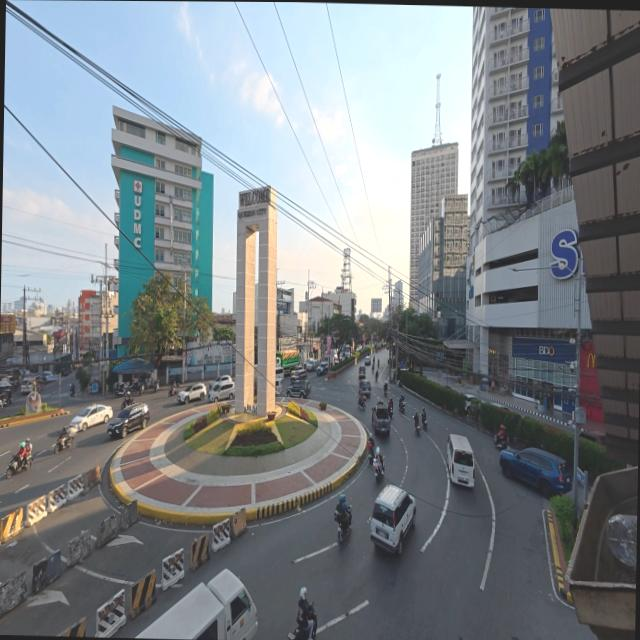car: (500, 448, 572, 498), (108, 403, 150, 438), (71, 405, 113, 431), (177, 382, 207, 403), (208, 381, 234, 403), (286, 380, 310, 398), (580, 429, 606, 444), (465, 393, 481, 413), (290, 367, 307, 383), (40, 371, 60, 383), (211, 376, 232, 387), (490, 402, 511, 412), (359, 380, 370, 397), (305, 358, 319, 371), (317, 361, 328, 375), (358, 365, 366, 378), (332, 350, 338, 363), (364, 355, 371, 365), (354, 344, 362, 352), (0, 399, 3, 410)
motorcycle: (6, 454, 32, 478), (335, 507, 352, 543), (54, 430, 72, 453), (307, 602, 317, 637), (373, 459, 383, 483), (128, 380, 144, 394), (493, 436, 509, 450), (366, 437, 374, 464), (115, 383, 128, 397), (121, 397, 133, 409), (149, 380, 159, 393), (168, 385, 178, 396), (414, 419, 420, 434), (422, 412, 427, 429), (399, 400, 405, 413), (388, 403, 393, 418), (358, 399, 365, 409), (70, 385, 75, 397), (384, 383, 387, 396), (375, 373, 378, 383)
trucks: (276, 350, 300, 374), (372, 402, 390, 433)
vans: (137, 570, 257, 639), (371, 486, 415, 554), (447, 435, 474, 487), (275, 365, 284, 394), (21, 378, 35, 394)
